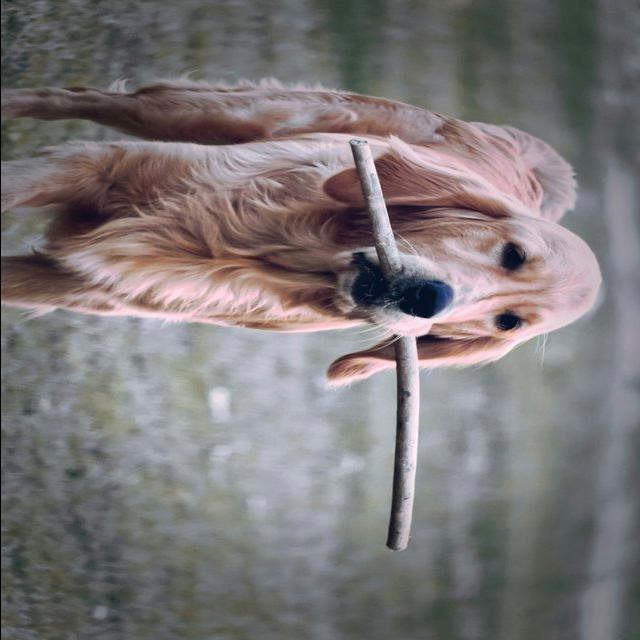retriever: (2, 75, 603, 386)
